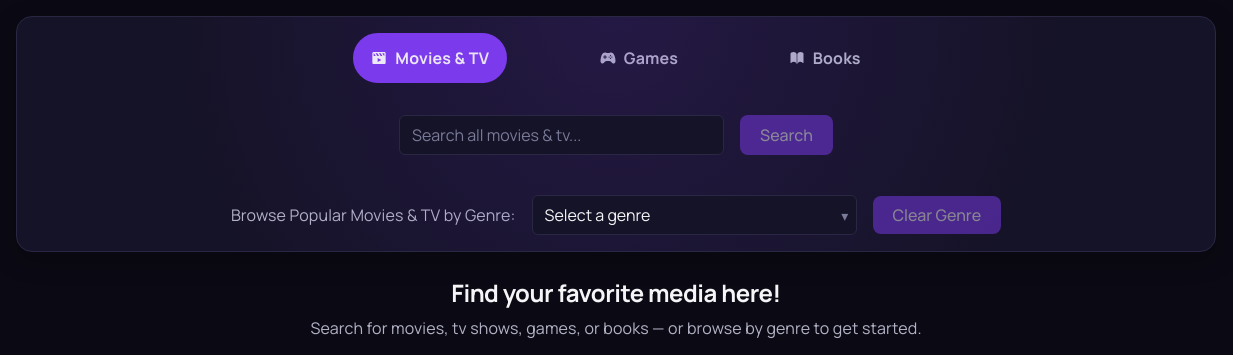
it: SearchPage › should show no results message when search returns no results
Type "doesnotexist" into the field named "Search input" at point(562, 135), box x1=399 y1=115 x2=724 y2=155
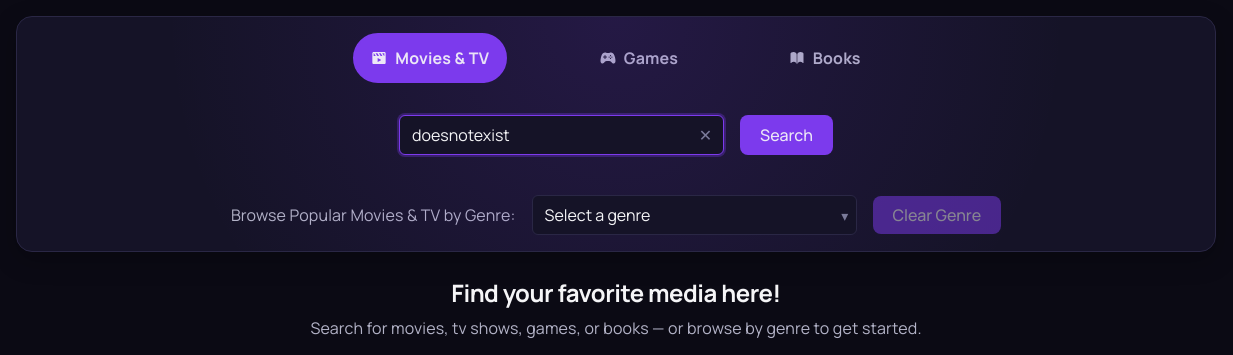
Click the button with aria-label "submit search" at point(786, 135), box x1=740 y1=115 x2=833 y2=155
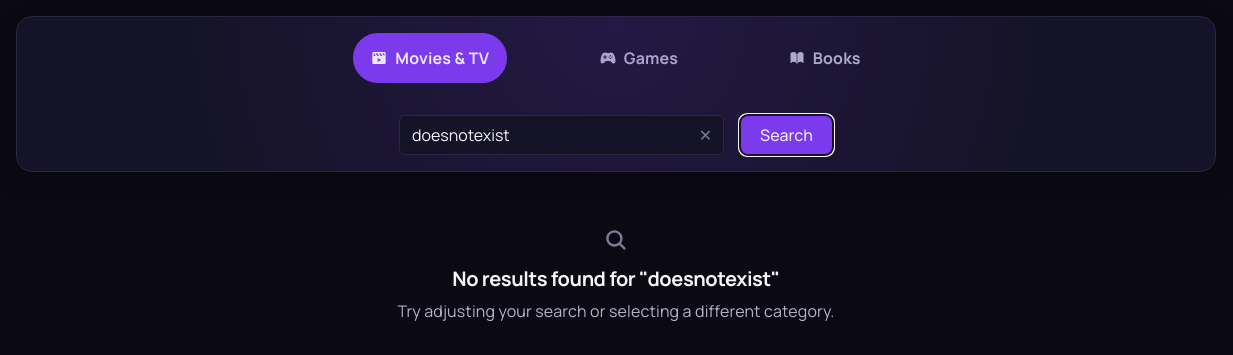
Expected: the heading "No results found for \"doesnotexist\"" is shown, x1=452 y1=265 x2=780 y2=292
Expected: the text "\"doesnotexist\"" is shown, x1=639 y1=265 x2=780 y2=292
